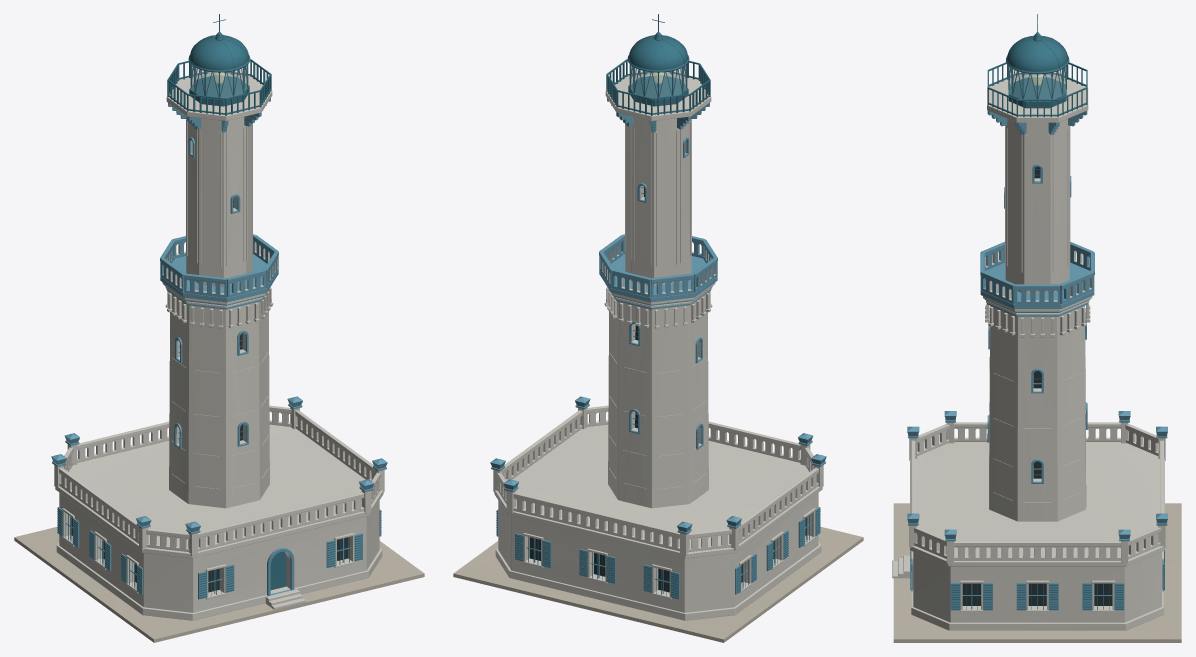
File: punta-nador.glb
3 renders of one model, left to right at view 1: azimuth 30°, elevation 25°; view 2: azimuth 150°, elevation 25°; view 3: azimuth 270°, elevation 25°, orthographic. The views are drawn at different scales.
Visible parts, largest first — view 1: WEB 01 | Enduit - argile claire, WEB 02 | Corniches - gris, WEB 03 | Lanterne - gris ardoise, WEB V03 Beton chemin, WEB 04 | Vitrage opaque de controle, WEB 06 | Ombre des embrasures; view 2: WEB 01 | Enduit - argile claire, WEB 02 | Corniches - gris, WEB V03 Beton chemin, WEB 03 | Lanterne - gris ardoise, WEB 04 | Vitrage opaque de controle, WEB 06 | Ombre des embrasures; view 3: WEB 01 | Enduit - argile claire, WEB 02 | Corniches - gris, WEB V03 Beton chemin, WEB 03 | Lanterne - gris ardoise, WEB 06 | Ombre des embrasures, WEB 04 | Vitrage opaque de controle.
Boxes of the visible parts, bbox=[...] form: WEB 01 | Enduit - argile claire: bbox=[54, 72, 384, 620]; WEB 02 | Corniches - gris: bbox=[51, 98, 387, 599]; WEB 03 | Lanterne - gris ardoise: bbox=[57, 14, 381, 598]; WEB V03 Beton chemin: bbox=[14, 526, 424, 642]; WEB 04 | Vitrage opaque de controle: bbox=[191, 66, 247, 97]; WEB 06 | Ombre des embrasures: bbox=[71, 198, 348, 592]; WEB 01 | Enduit - argile claire: bbox=[493, 72, 823, 620]; WEB 02 | Corniches - gris: bbox=[490, 98, 826, 599]; WEB V03 Beton chemin: bbox=[453, 526, 863, 642]; WEB 03 | Lanterne - gris ardoise: bbox=[496, 14, 820, 598]; WEB 04 | Vitrage opaque de controle: bbox=[630, 66, 686, 97]; WEB 06 | Ombre des embrasures: bbox=[529, 187, 806, 592]; WEB 01 | Enduit - argile claire: bbox=[892, 75, 1165, 630]; WEB 02 | Corniches - gris: bbox=[907, 110, 1167, 610]; WEB V03 Beton chemin: bbox=[893, 503, 1181, 642]; WEB 03 | Lanterne - gris ardoise: bbox=[910, 14, 1164, 609]; WEB 06 | Ombre des embrasures: bbox=[962, 167, 1112, 605]; WEB 04 | Vitrage opaque de controle: bbox=[1009, 67, 1066, 101].
Size of the model in its own units: 18.1 by 34.82 by 16.27.
